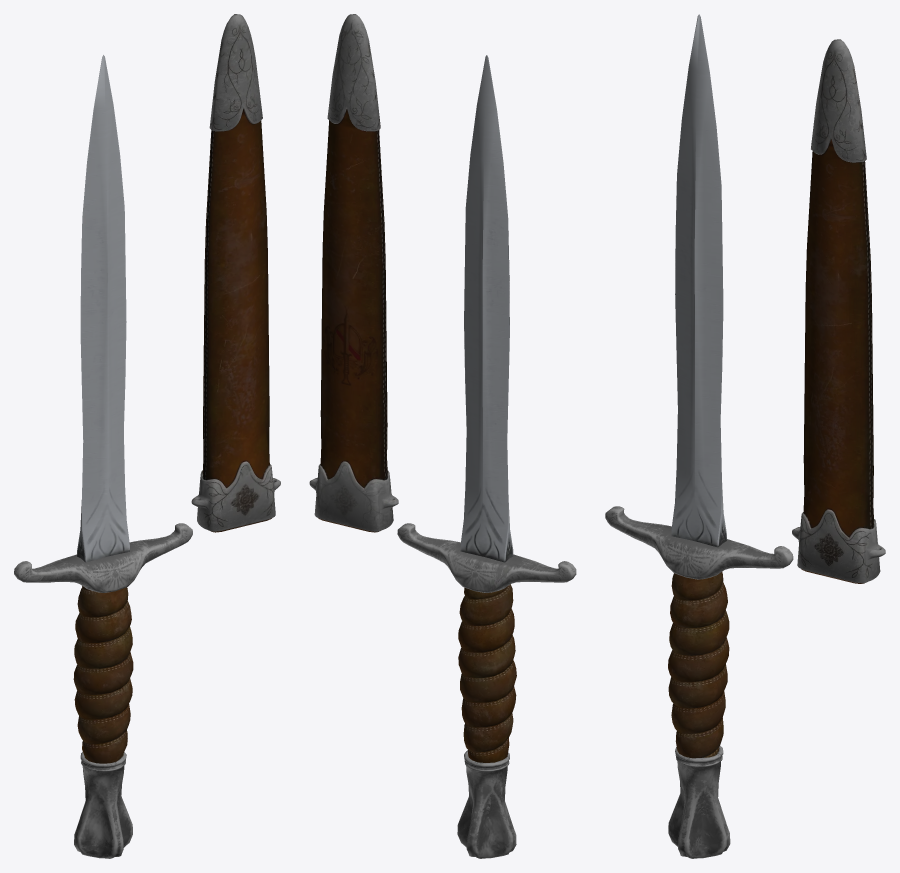
File: ornate_medieval_dagger.glb
The picture shows the model from 3 angles, left to right: view 1: azimuth 30°, elevation 25°; view 2: azimuth 150°, elevation 25°; view 3: azimuth 330°, elevation 25°; orthographic projection. The views are drawn at different scales.
Parts seen in each view (by area): view 1: ornate_medieval_dagger, ornate_medieval_dagger_scabbard; view 2: ornate_medieval_dagger, ornate_medieval_dagger_scabbard; view 3: ornate_medieval_dagger, ornate_medieval_dagger_scabbard.
Boxes of the visible parts, bbox=[...] form: ornate_medieval_dagger: bbox=[14, 55, 192, 858]; ornate_medieval_dagger_scabbard: bbox=[191, 14, 280, 532]; ornate_medieval_dagger: bbox=[397, 55, 576, 858]; ornate_medieval_dagger_scabbard: bbox=[309, 14, 398, 532]; ornate_medieval_dagger: bbox=[605, 14, 793, 858]; ornate_medieval_dagger_scabbard: bbox=[792, 39, 885, 583].
Size of the model in its own units: 0.1201 by 0.3489 by 0.025.
Materials: 1 (1 with a texture image).
